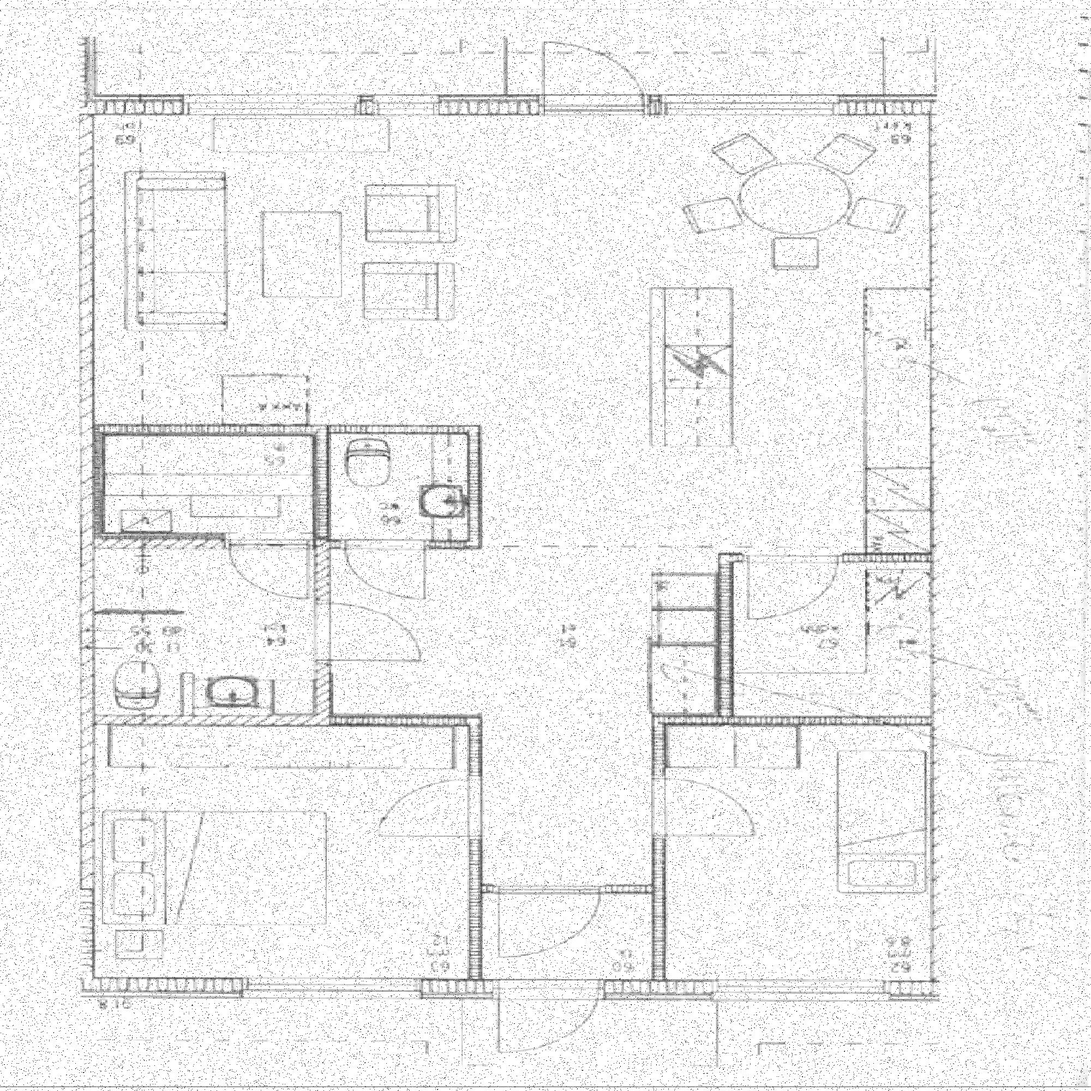wall: (79, 95, 946, 115), (80, 981, 946, 1001), (930, 95, 946, 1001), (80, 549, 95, 1001), (79, 95, 95, 425), (468, 715, 482, 1001), (652, 717, 666, 1001), (80, 425, 105, 549), (718, 554, 735, 726), (80, 425, 329, 436), (652, 717, 946, 726), (316, 540, 330, 725), (80, 715, 330, 725), (650, 288, 666, 444), (80, 533, 225, 549), (718, 554, 946, 563), (312, 425, 328, 549), (316, 715, 482, 725), (468, 425, 481, 549), (468, 885, 666, 893), (312, 425, 481, 434), (312, 540, 481, 549), (224, 539, 328, 549), (181, 673, 194, 725)
